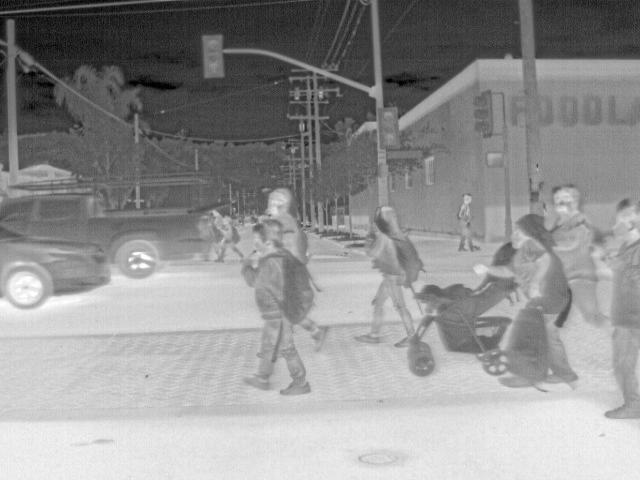car: (0, 170, 218, 279), (0, 218, 114, 312)
person: (243, 218, 312, 394), (509, 211, 570, 387), (355, 203, 412, 346), (552, 183, 605, 332), (605, 197, 639, 419), (266, 184, 306, 264), (456, 191, 478, 254), (221, 213, 240, 263), (210, 211, 225, 263)
